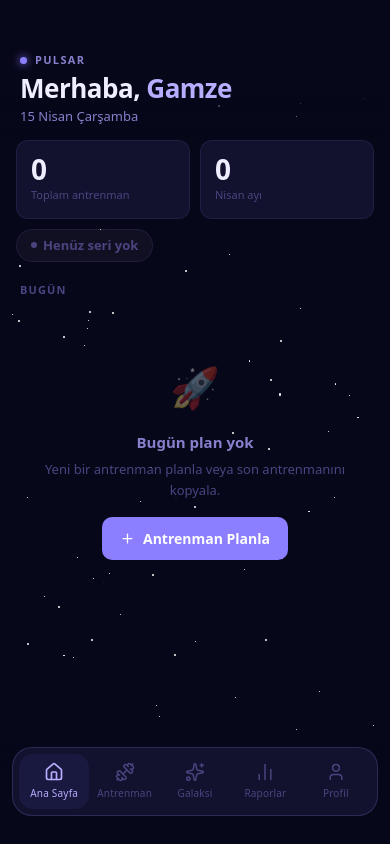
Scenario: Antrenman Düzenle & Sil Akışı › Sil butonuna basınca DELETE isteği gönderilir ve kart listeden kalkar
This screenshot has width=390, height=844.
Click the button with test id "tab-workout".
click(124, 782)  # box [89, 754, 159, 809]
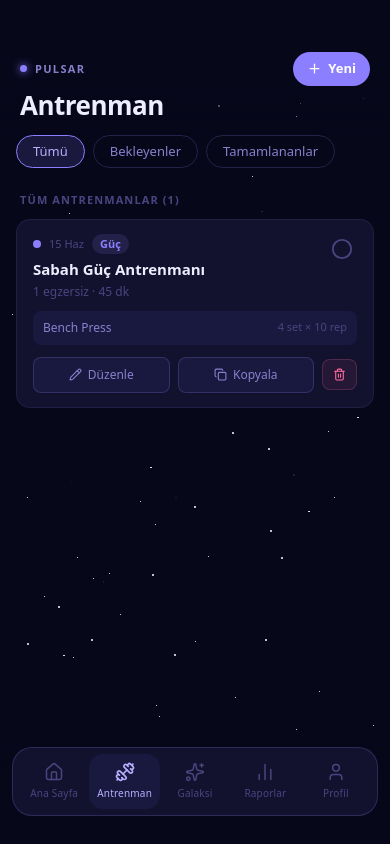
Expected: the heading "Antrenman" is shown, [20, 86, 164, 122]
Expected: the number of elements with test id "workout-card" is 1, [16, 219, 374, 408]
Click the button with test id "workout-delete-btn".
click(340, 375)  # box [322, 359, 357, 390]
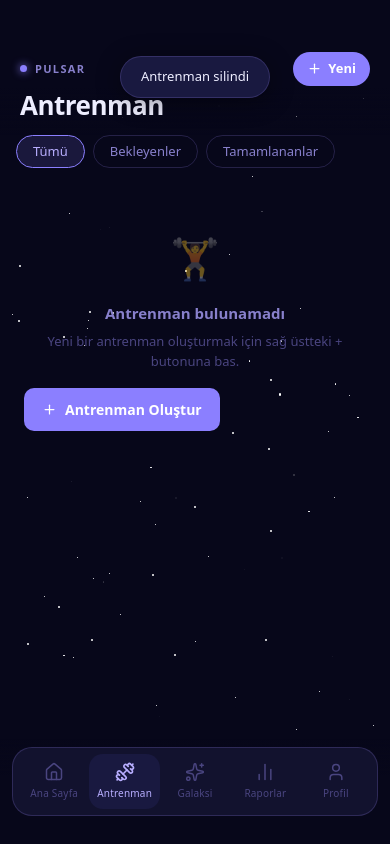
Expected: the text "Antrenman bulunamadı" is shown, [105, 303, 285, 323]
